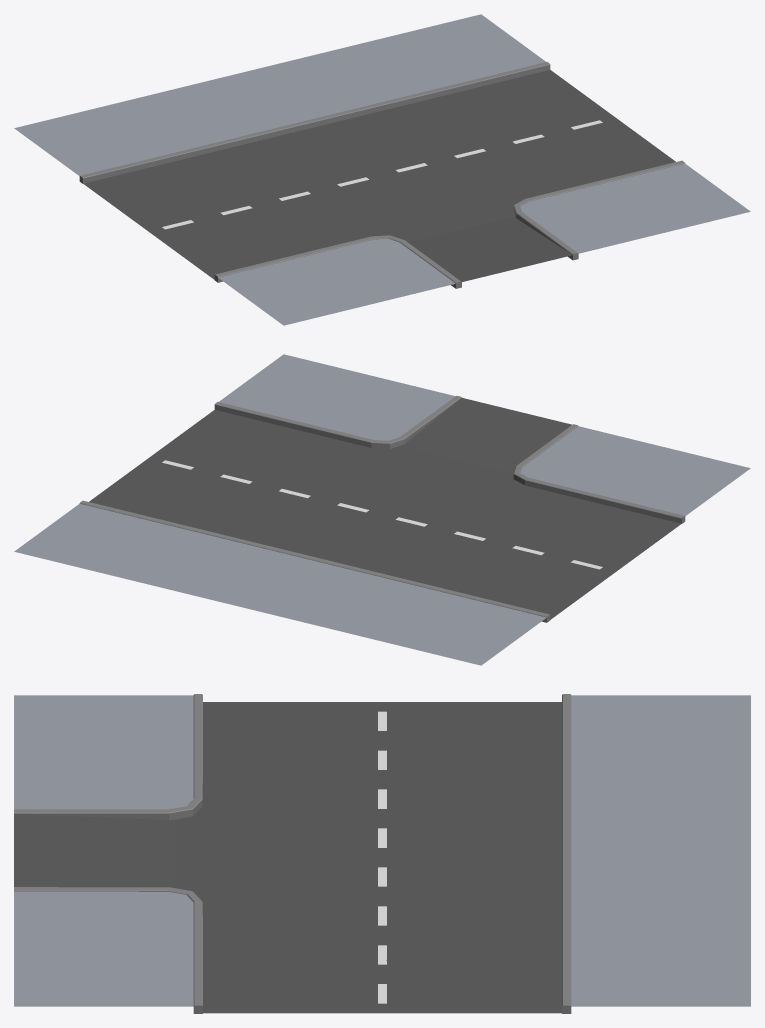
Rendered from Road_08.fbx.
3 views of the same model, one above another, from view 1: azimuth 30°, elevation 25°; view 2: azimuth 150°, elevation 25°; view 3: azimuth 270°, elevation 25° (orthographic). The views are drawn at different scales.
Parts seen in each view (by area): view 1: Road_08; view 2: Road_08; view 3: Road_08.
Boxes of the visible parts, box(x1,y1,x2,y2) form: Road_08: box(14, 14, 750, 325); Road_08: box(14, 354, 750, 665); Road_08: box(14, 694, 750, 1013).
Bounding box in the file's own units: 1200 × 15 × 1200.
